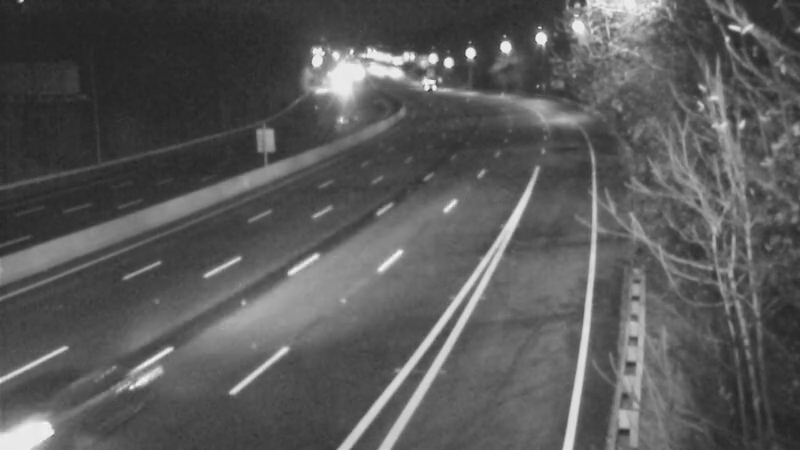vehicle: (17, 338, 127, 448), (403, 57, 453, 107)
